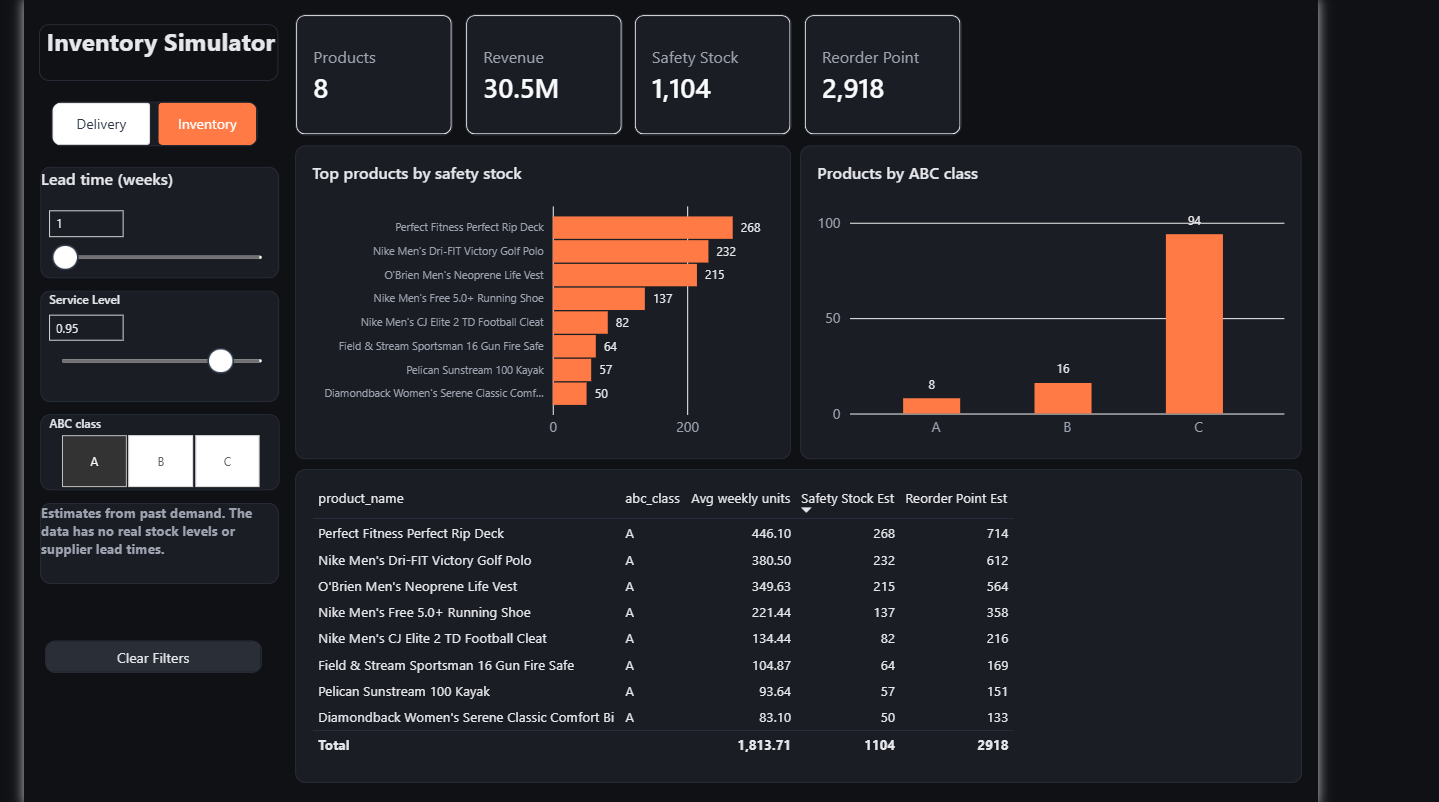

What the dashboard file says about the page in this screenshot:
{"tool":"powerbi","page":{"name":"Inventory ","canvas":[1280,800],"ordinal":1},"visuals":[{"type":"slicer","title":"Lead time (weeks)","fields":{"Values":["Leads Weeks.Leads Weeks"]},"box":[15.7,167.1,236,110],"z":0},{"type":"slicer","fields":{"Values":["Service Level.Service Level"]},"box":[15.7,290,236,110],"z":1000},{"type":"tableEx","fields":{"Values":["inventory_priority.product_name","inventory_priority.abc_class","Sum(inventory_priority.avg_weekly_units)","inventory_priority.Safety Stock Est","inventory_priority.Reorder Point Est"]},"box":[268,466,996,310],"z":2000},{"type":"clusteredBarChart","title":"Top  products by safety stock","fields":{"Category":["inventory_priority.product_name"],"Y":["inventory_priority.Safety Stock Est"]},"box":[268,146,490,310],"z":3000},{"type":"textbox","box":[14.3,25.7,237.1,55.7],"z":4000},{"type":"textbox","box":[16,500,236,80],"z":5000},{"type":"cardVisual","fields":{"Data":["inventory_priority.Products"]},"box":[268,16.7,156,120],"z":6000},{"type":"cardVisual","fields":{"Data":["inventory_priority.Revenue Text"]},"box":[436,16,156,120],"z":7000},{"type":"cardVisual","fields":{"Data":["inventory_priority.Safety Stock Text"]},"box":[604,16,156,120],"z":8000},{"type":"cardVisual","fields":{"Data":["inventory_priority.Reorder Point Text"]},"box":[772,16,156,120],"z":9000},{"type":"clusteredColumnChart","title":"Products by ABC class","fields":{"Category":["inventory_priority.abc_class"],"Y":["inventory_priority.Products"]},"box":[768,146,496,310],"z":10000},{"type":"slicer","fields":{"Values":["inventory_priority.abc_class"]},"box":[15.7,412,236.9,75],"z":11000},{"type":"actionButton","box":[21.4,635.7,214,32],"z":12000},{"type":"pageNavigator","box":[27.1,102.9,204,44],"z":13000}]}

Visuals, with their boxes on the page's 1280x800 design canvas (x1, y1, x2, y2). These are canvas units, not pixel positions in the 1439x802 screenshot, which may show the page scaled, cropped or inside an application window:
"Lead time (weeks)" slicer: (left=16, top=167, right=252, bottom=277)
slicer - Service Level.Service Level: (left=16, top=290, right=252, bottom=400)
tableEx - inventory_priority.product_name x inventory_priority.abc_class: (left=268, top=466, right=1264, bottom=776)
"Top  products by safety stock" clusteredBarChart: (left=268, top=146, right=758, bottom=456)
textbox: (left=14, top=26, right=251, bottom=81)
textbox: (left=16, top=500, right=252, bottom=580)
cardVisual - inventory_priority.Products: (left=268, top=17, right=424, bottom=137)
cardVisual - inventory_priority.Revenue Text: (left=436, top=16, right=592, bottom=136)
cardVisual - inventory_priority.Safety Stock Text: (left=604, top=16, right=760, bottom=136)
cardVisual - inventory_priority.Reorder Point Text: (left=772, top=16, right=928, bottom=136)
"Products by ABC class" clusteredColumnChart: (left=768, top=146, right=1264, bottom=456)
slicer - inventory_priority.abc_class: (left=16, top=412, right=253, bottom=487)
actionButton: (left=21, top=636, right=235, bottom=668)
pageNavigator: (left=27, top=103, right=231, bottom=147)
